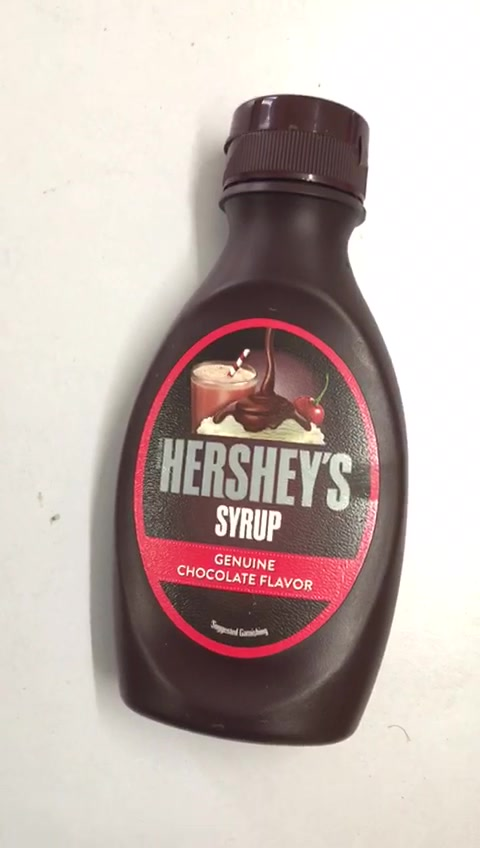hershey: (109, 96, 410, 749)
